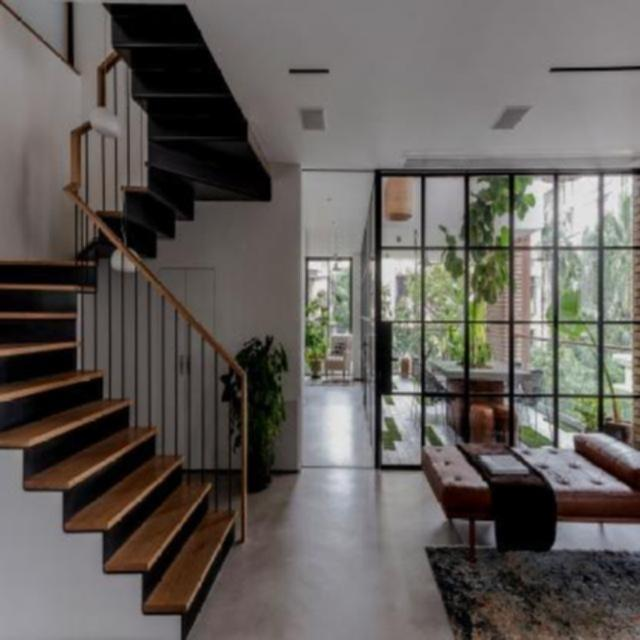stair: (0, 0, 278, 627)
